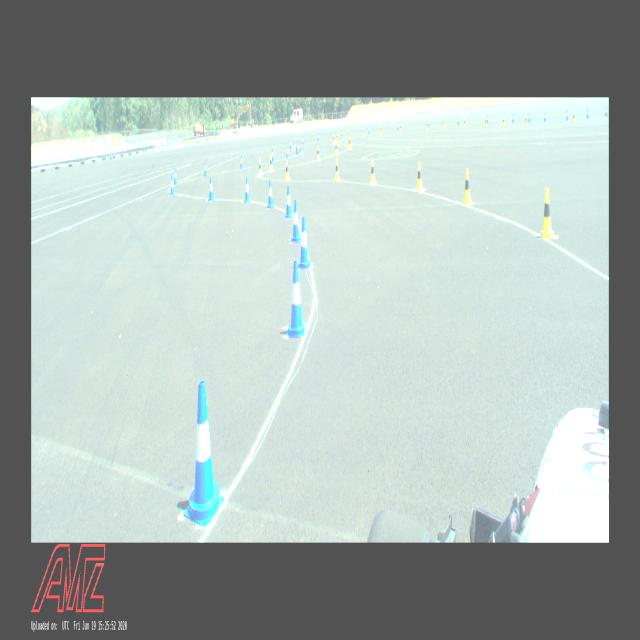blue_cone: (184, 379, 224, 526), (286, 260, 306, 336), (298, 216, 310, 268), (291, 200, 301, 242), (285, 184, 293, 218), (268, 179, 274, 208), (244, 177, 250, 203), (208, 177, 214, 201), (170, 175, 174, 195), (174, 168, 178, 184), (204, 161, 208, 177), (241, 155, 243, 169), (272, 149, 274, 162), (286, 147, 288, 158), (297, 144, 299, 154), (606, 106, 608, 116), (300, 142, 302, 152)
yellow_cone: (541, 188, 553, 238), (464, 168, 472, 206), (416, 162, 423, 191), (370, 158, 376, 184), (334, 158, 340, 180), (286, 160, 290, 180), (258, 158, 262, 176), (270, 156, 274, 172), (317, 146, 320, 160), (335, 142, 338, 155), (349, 138, 352, 149), (338, 135, 341, 145), (333, 134, 335, 144), (574, 112, 576, 122), (503, 117, 505, 126), (426, 121, 428, 129), (442, 120, 444, 128), (464, 118, 466, 126), (485, 118, 487, 126), (526, 116, 528, 124)
